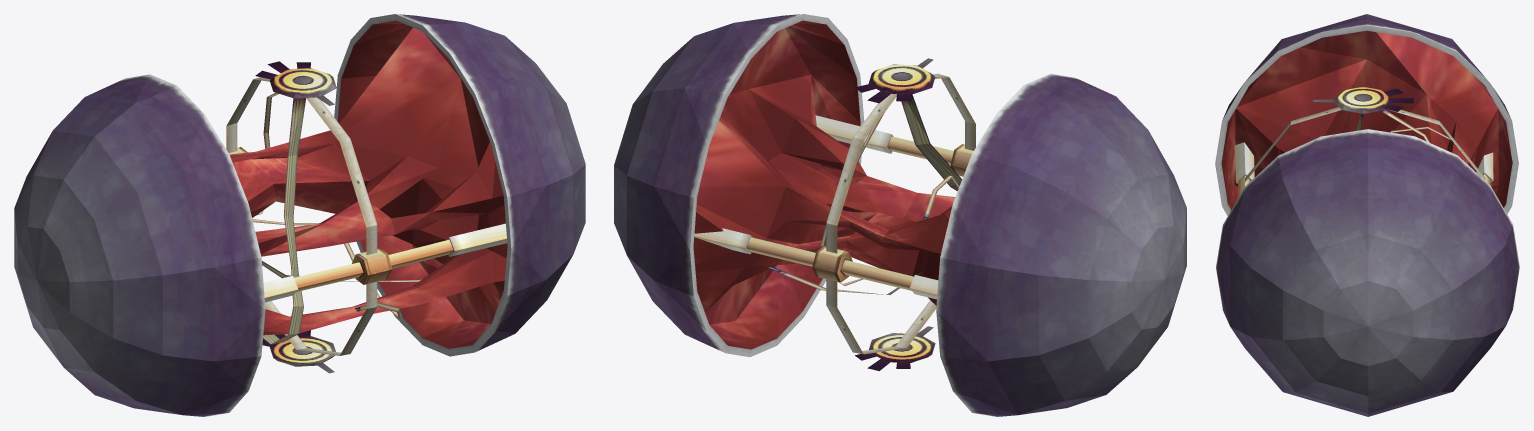
Rendered from megatank.obj.
3 views of the same model, side by side, from view 1: azimuth 30°, elevation 25°; view 2: azimuth 150°, elevation 25°; view 3: azimuth 270°, elevation 25° (orthographic). The views are drawn at different scales.
Parts seen in each view (by area): view 1: Mesh_0023, Mesh_0021; view 2: Mesh_0023, Mesh_0021; view 3: Mesh_0023, Mesh_0021.
Boxes of the visible parts, box(x1,y1,x2,y2) form: Mesh_0023: box(14, 14, 585, 416); Mesh_0021: box(226, 20, 507, 373); Mesh_0023: box(614, 14, 1186, 416); Mesh_0021: box(693, 20, 975, 371); Mesh_0023: box(1215, 14, 1519, 416); Mesh_0021: box(1221, 31, 1512, 210).
Bounding box in the file's own units: 1156 × 670 × 669.
